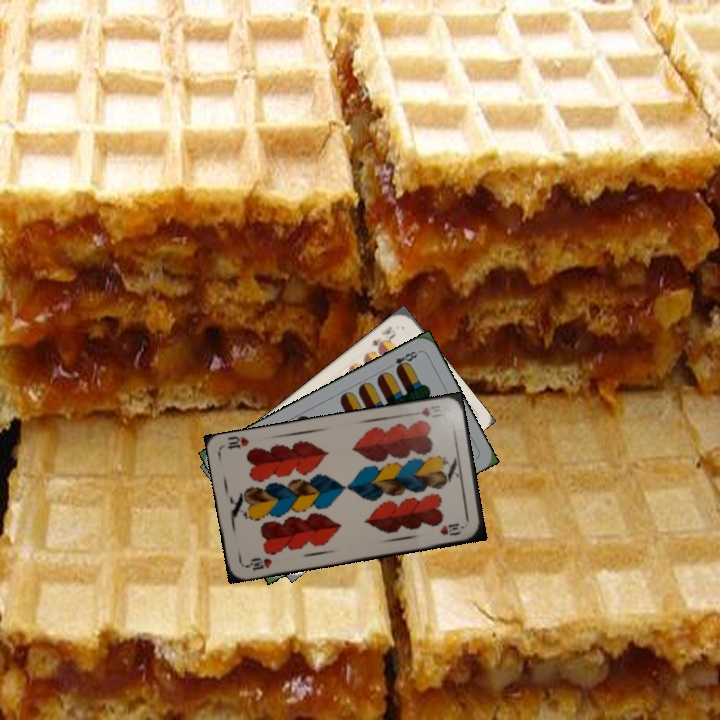E10: (367, 322, 398, 355)
E8: (384, 347, 422, 374)
H10: (242, 554, 274, 573), (417, 401, 445, 420)
